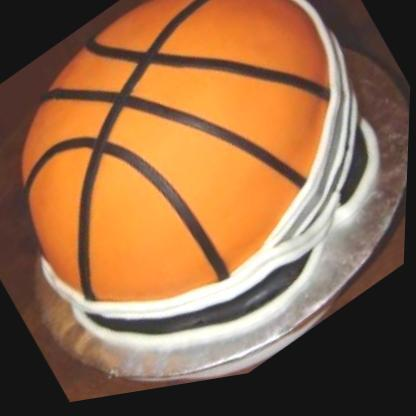basketball: (0, 0, 408, 393)
